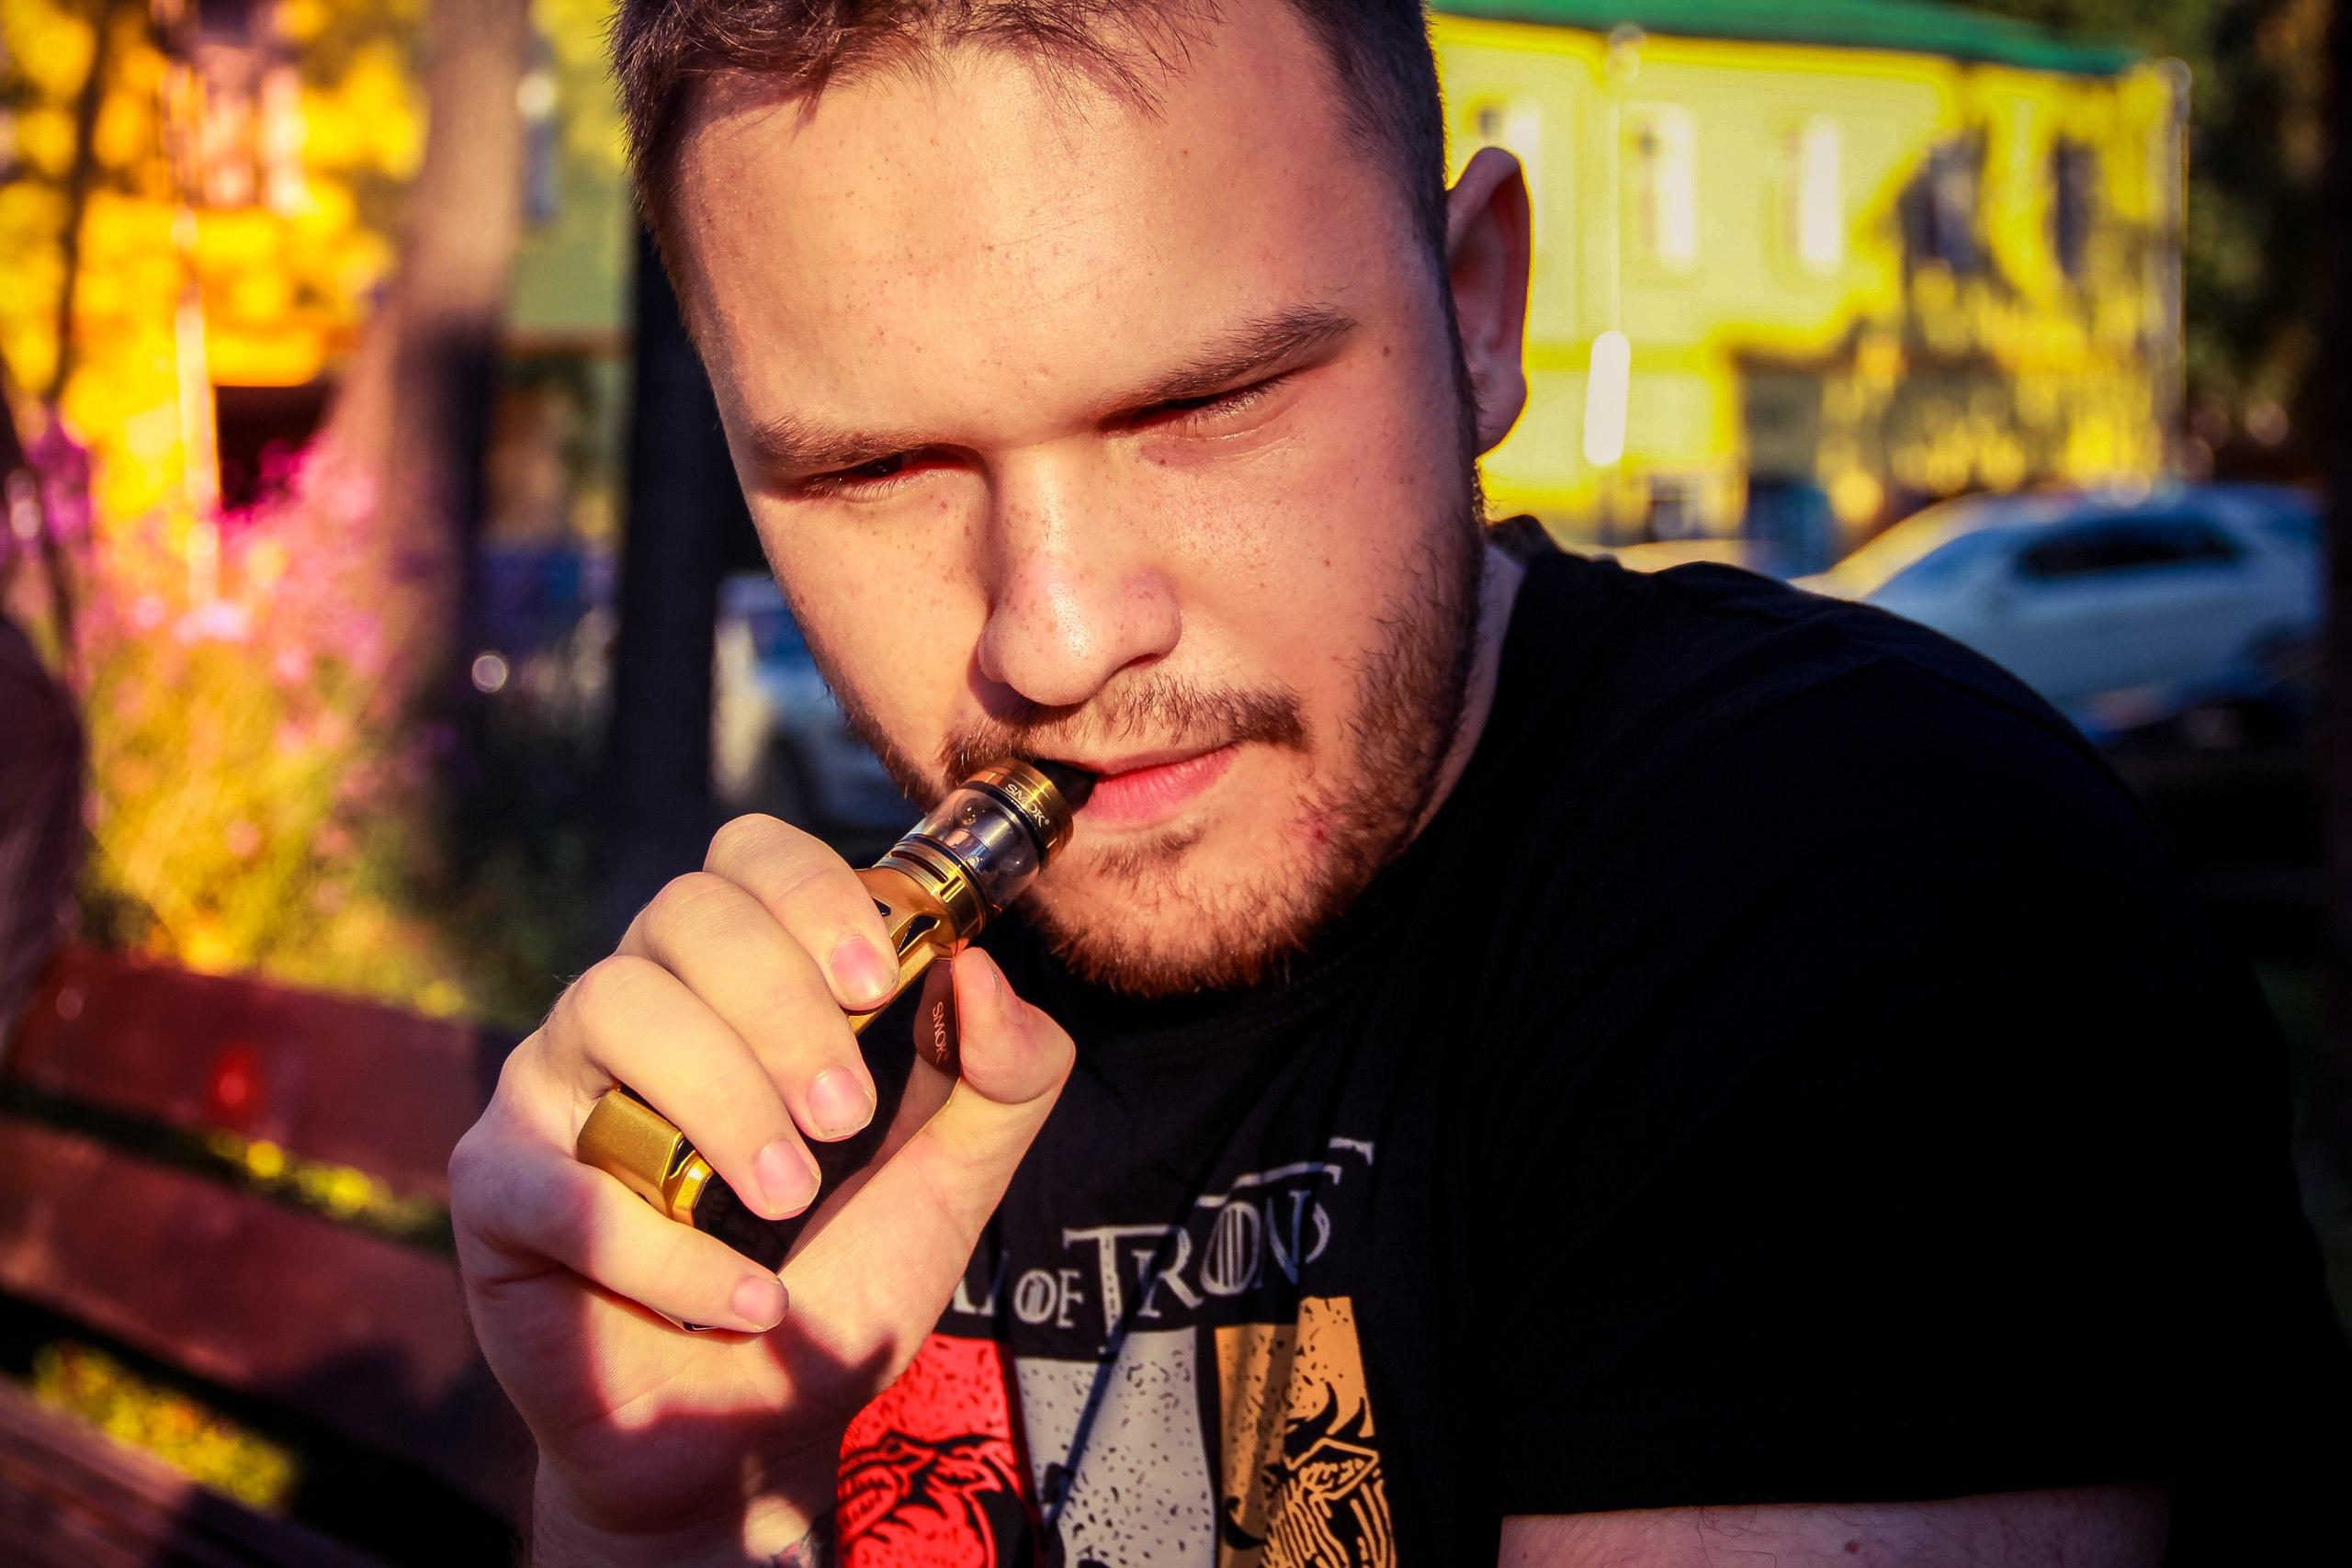Vape: (577, 754, 1102, 1277)
